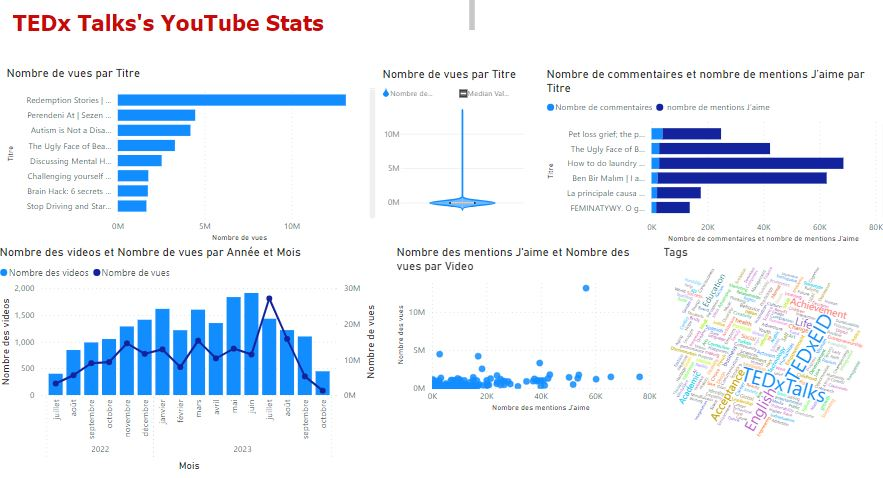

Layout of this report page (visuals, bound fields, positions):
{"tool":"powerbi","page":{"name":"Page 1","canvas":[1280,720],"ordinal":0},"visuals":[{"type":"textbox","box":[10.1,0,679.4,62.1],"z":0},{"type":"lineStackedColumnComboChart","fields":{"Y":["youtube_data.Title"],"Y2":["youtube_data.Views"],"Category":["youtube_data.PublishedDate.Variation.Hiérarchie de dates.Année","youtube_data.PublishedDate.Variation.Hiérarchie de dates.Mois"]},"box":[0,359.6,547,327.6],"z":1000},{"type":"barChart","fields":{"Y":["youtube_data.Comments","youtube_data.Likes"],"Category":["youtube_data.Title"]},"box":[781.7,105.1,498.3,256],"z":2000},{"type":"barChart","fields":{"Category":["youtube_data.Title"],"Y":["youtube_data.Views"]},"box":[9.9,104.1,536.8,256],"z":3000},{"type":"violinPlot4D46EB9EB3A141D9BA2289793175D971","fields":{"sampling":["youtube_data.Title"],"measure":["youtube_data.Views"]},"box":[547,105.1,211.8,224],"z":4000},{"type":"scatterChart","fields":{"Category":["youtube_data.Title"],"Y":["youtube_data.Views"],"X":["youtube_data.Likes"]},"box":[567.4,360,381.6,243.4],"z":5000},{"type":"WordCloud1447959067750","fields":{"Category":["youtube_data.Tags"]},"box":[949,360,331.2,299.5],"z":6000}]}

Visuals, with their boxes on the page's 1280x720 design canvas (x1, y1, x2, y2). These are canvas units, not pixel positions in the 883x478 screenshot, which may show the page scaled, cropped or inside an application window:
textbox: select_region(10, 0, 690, 62)
lineStackedColumnComboChart - youtube_data.Title x youtube_data.Views: select_region(0, 360, 547, 687)
barChart - youtube_data.Comments x youtube_data.Likes: select_region(782, 105, 1280, 361)
barChart - youtube_data.Title x youtube_data.Views: select_region(10, 104, 547, 360)
violinPlot4D46EB9EB3A141D9BA2289793175D971 - youtube_data.Title x youtube_data.Views: select_region(547, 105, 759, 329)
scatterChart - youtube_data.Title x youtube_data.Views: select_region(567, 360, 949, 603)
WordCloud1447959067750 - youtube_data.Tags: select_region(949, 360, 1280, 660)
